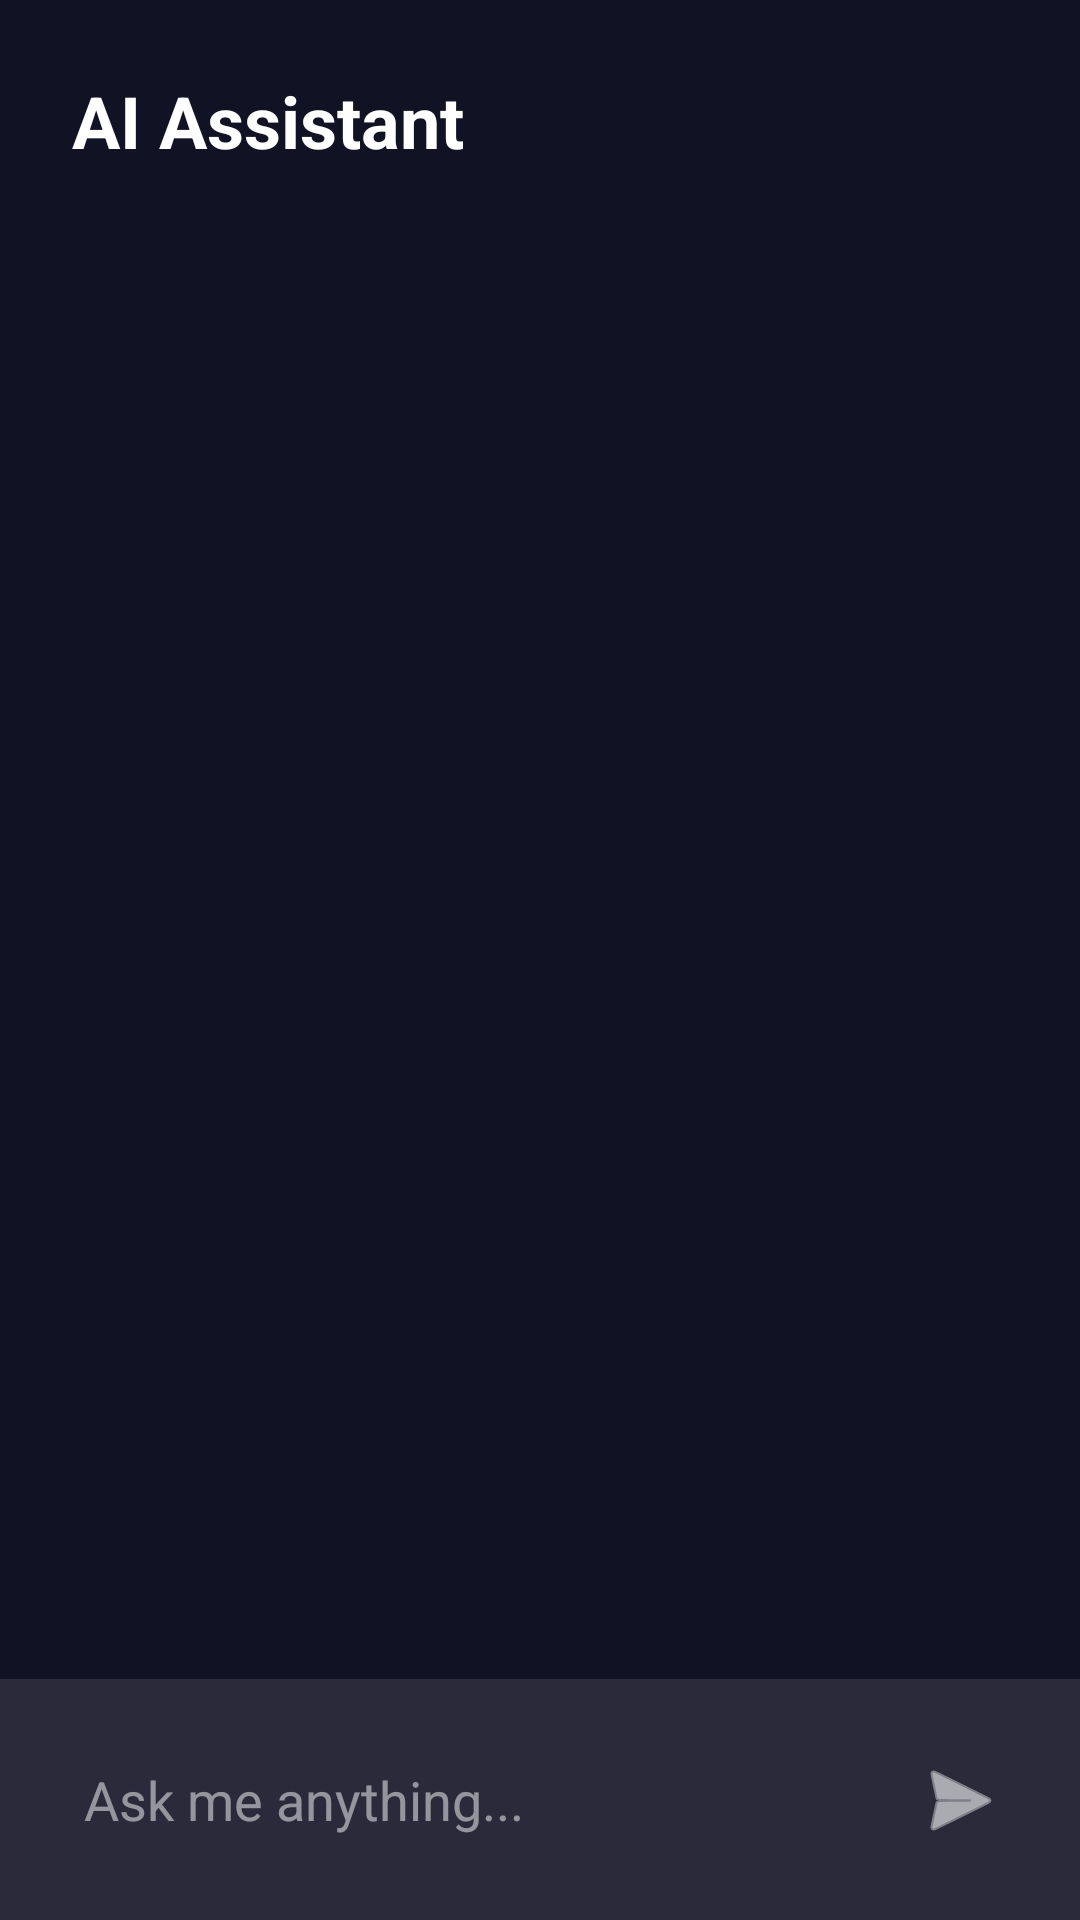

Point at icon controls on the screen. Image size 1080 x 1920, points as (x=x, y=y).
send: (x=961, y=1800)
